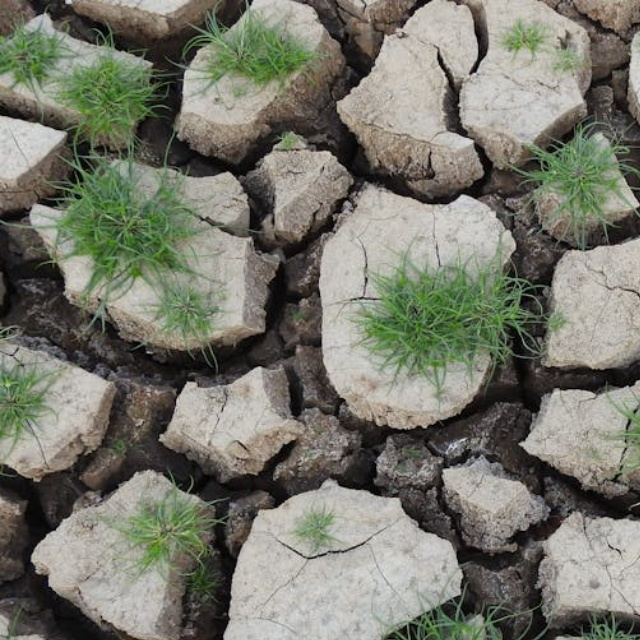深大裂缝: (209, 66, 381, 559), (537, 0, 640, 464), (0, 535, 365, 640)
